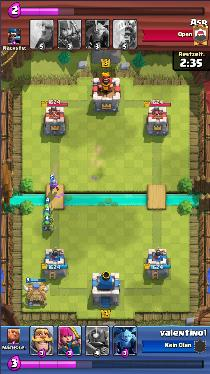ally_goblin_hut: (23, 282, 51, 309)
ally_musketeer: (48, 178, 59, 192)
ally_spear_goblin: (42, 212, 54, 223), (42, 222, 53, 233), (43, 203, 52, 214)
